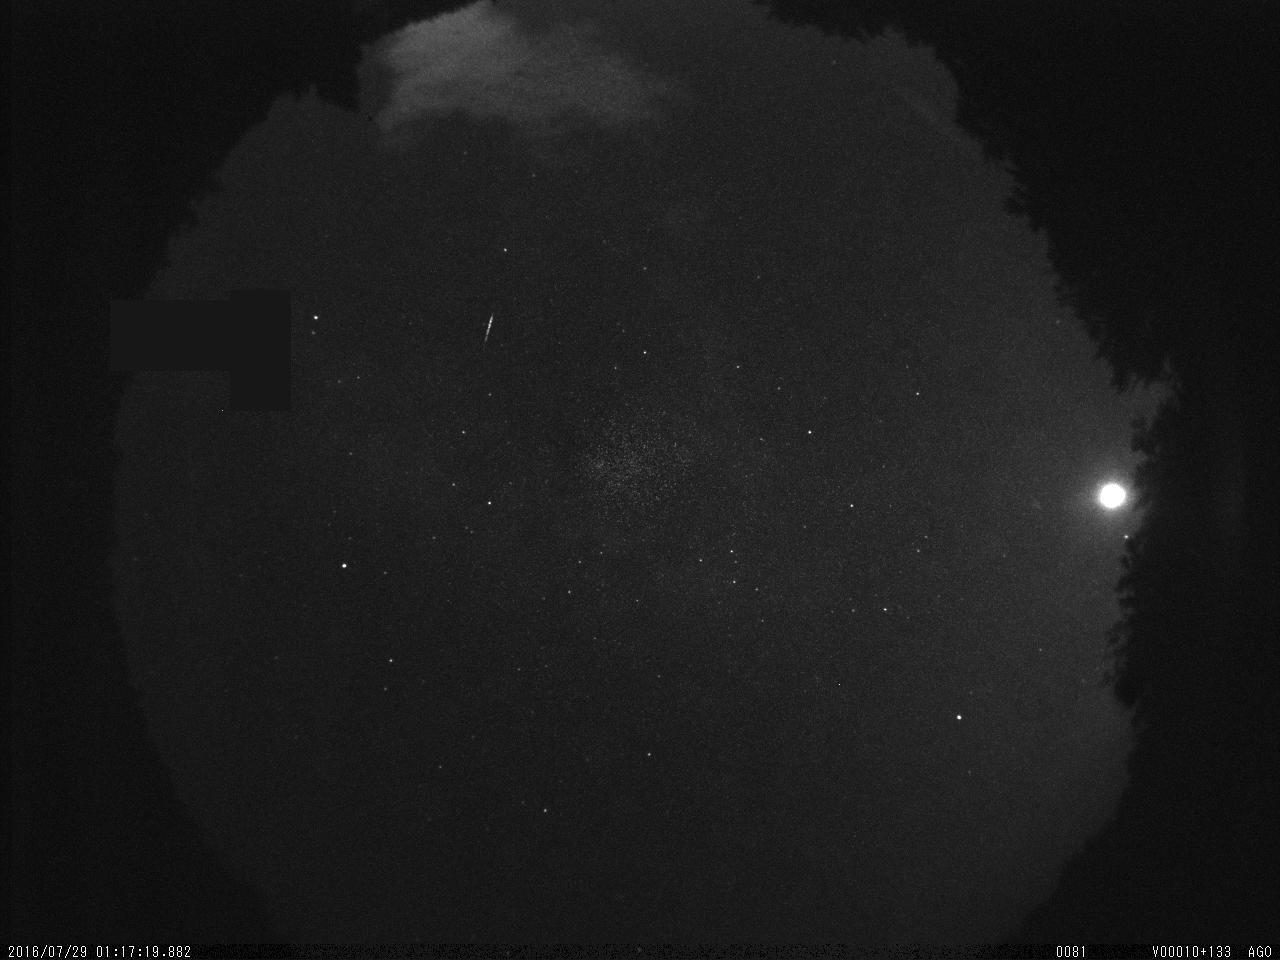meteor: (438, 288, 519, 386)
